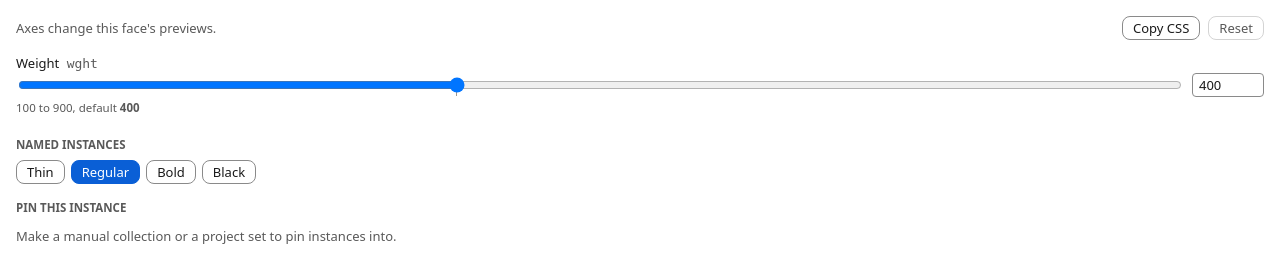
Test: inspector axes tab › says "Could not copy" when the clipboard refuses
The width and height of the screenshot is (1280, 261).
Click the button with aria-label "Copy CSS for the axes" at (1161, 28), box [1122,16,1200,40]
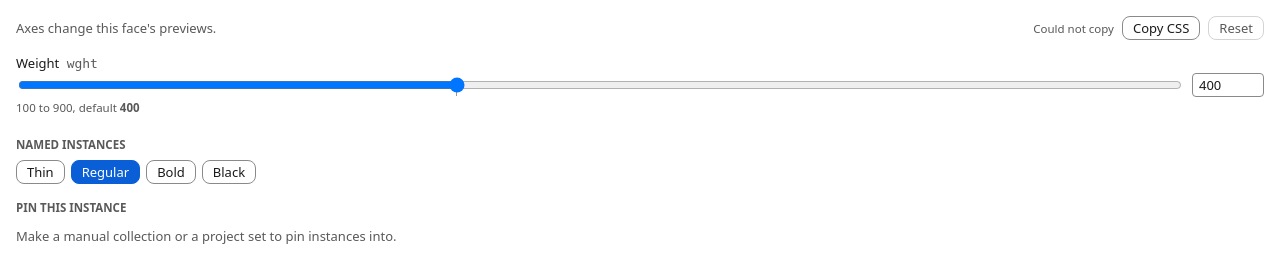
Expected: the message "Could not copy" is shown, [1033,20,1114,36]
